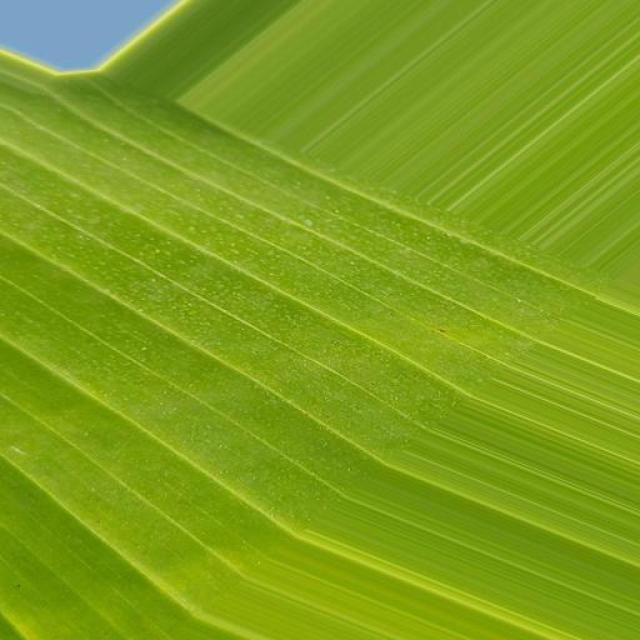Black_leaf_spot: (0, 43, 593, 640)
